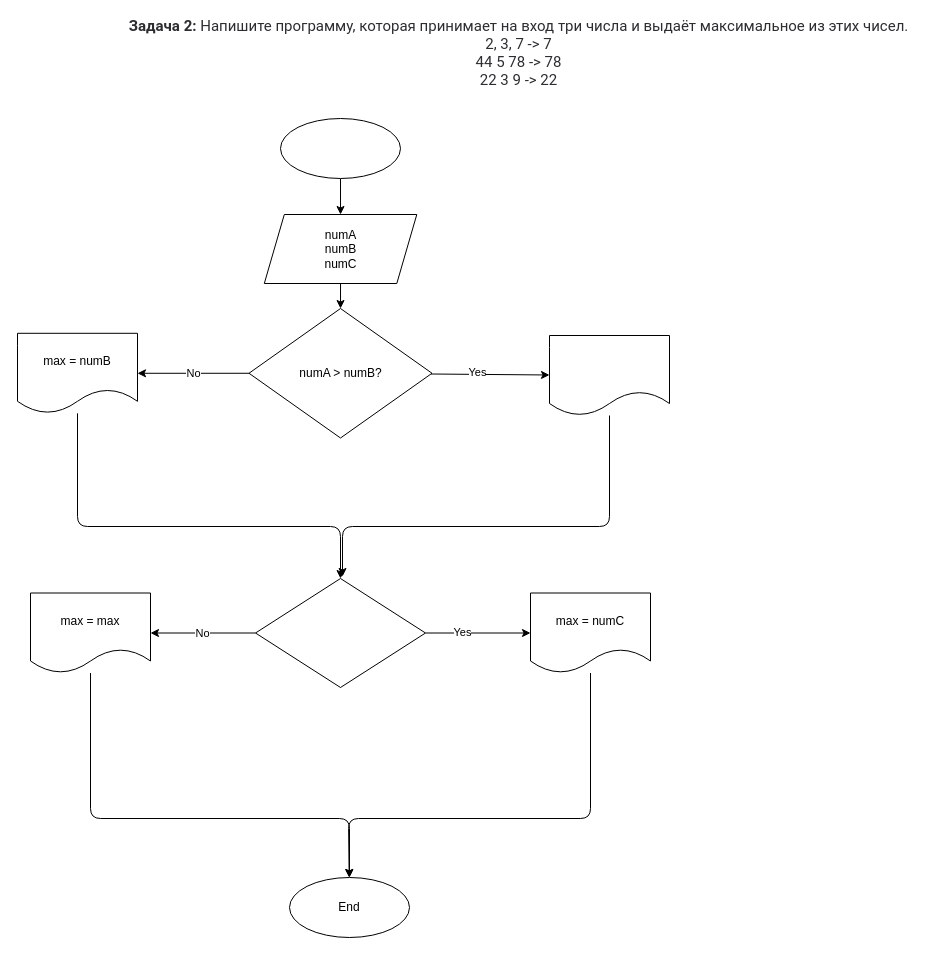
Image size: 926x955. Some labels were removed from this diagram. The centre of each missing label's shape, as x and y in pixels:
"max = numA" goes at point (609, 375).
"numC > max?" goes at point (340, 633).
"Start" goes at point (340, 148).
